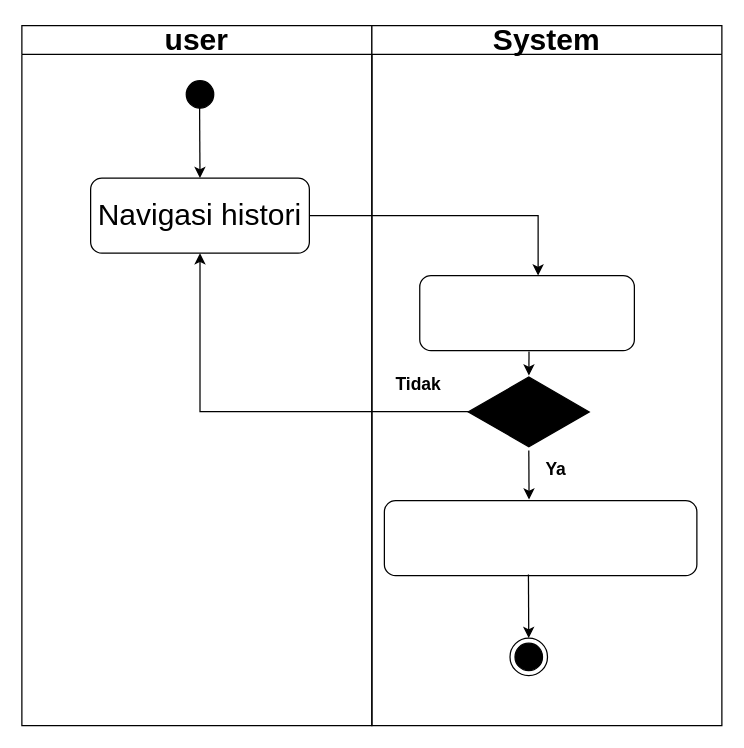
The diagram is 744 pixels wide and 748 high, and some of its shapes have lost their labels. Here are the shapes that lost their labels. From the top down, the box of each, then its label:
(418, 274, 634, 351): data presensi tersedia
(383, 499, 697, 576): tampil histori presensi
